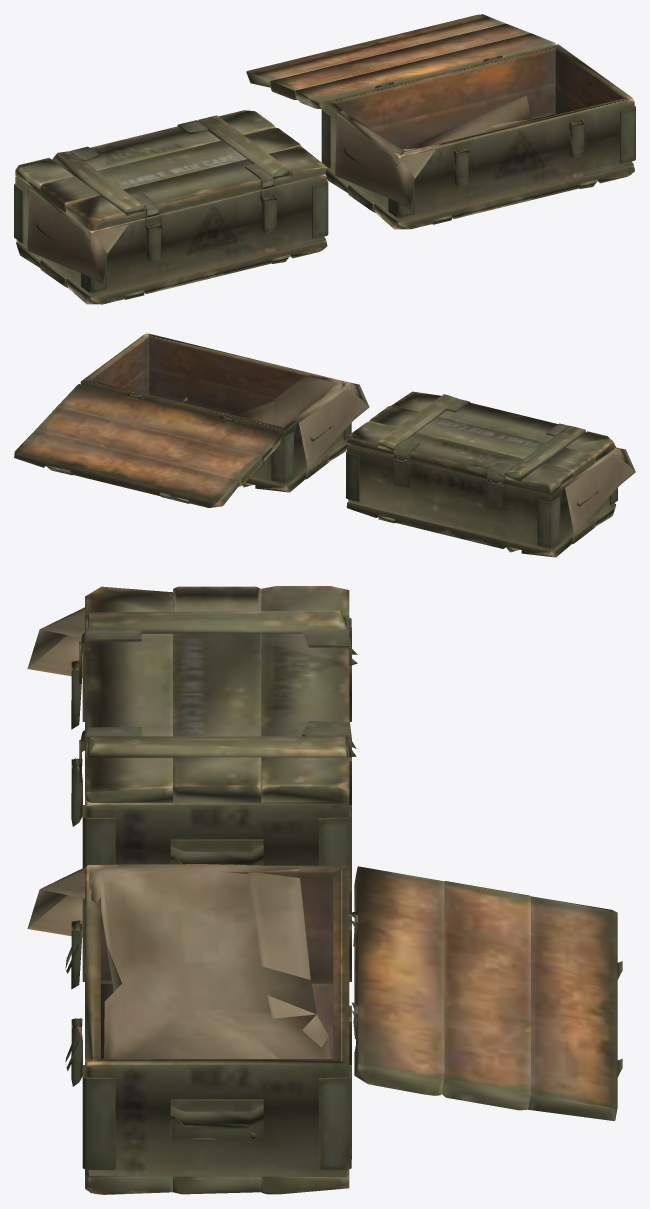
Rendered from old_military_crate.glb.
3 views of the same model, one above another, from view 1: azimuth 30°, elevation 25°; view 2: azimuth 150°, elevation 25°; view 3: azimuth 270°, elevation 25° (orthographic). The views are drawn at different scales.
Parts seen in each view (by area): view 1: old_military_crate_b, old_military_crate_lid_a, old_military_crate_a, old_military_crate_lid_b, old_military_crate_cloth_b, old_military_crate_cloth_a, old_military_crate_latch_a, old_military_crate_latch_b; view 2: old_military_crate_lid_b, old_military_crate_lid_a, old_military_crate_a, old_military_crate_b, old_military_crate_cloth_b, old_military_crate_cloth_a; view 3: old_military_crate_lid_a, old_military_crate_lid_b, old_military_crate_b, old_military_crate_cloth_b, old_military_crate_a, old_military_crate_cloth_a, old_military_crate_latch_a, old_military_crate_latch_b.
Part boxes in pixels (bbox=[...]): old_military_crate_b: bbox=[321, 44, 635, 229]; old_military_crate_lid_a: bbox=[15, 110, 327, 230]; old_military_crate_a: bbox=[14, 173, 328, 304]; old_military_crate_lid_b: bbox=[246, 14, 555, 109]; old_military_crate_cloth_b: bbox=[335, 95, 533, 209]; old_military_crate_cloth_a: bbox=[27, 188, 128, 284]; old_military_crate_latch_a: bbox=[146, 194, 276, 261]; old_military_crate_latch_b: bbox=[453, 119, 584, 185]; old_military_crate_lid_b: bbox=[14, 384, 282, 507]; old_military_crate_lid_a: bbox=[347, 391, 616, 494]; old_military_crate_a: bbox=[346, 445, 617, 557]; old_military_crate_b: bbox=[80, 333, 351, 492]; old_military_crate_cloth_b: bbox=[174, 374, 369, 469]; old_military_crate_cloth_a: bbox=[564, 447, 635, 534]; old_military_crate_lid_a: bbox=[79, 586, 357, 802]; old_military_crate_lid_b: bbox=[350, 866, 622, 1120]; old_military_crate_b: bbox=[82, 865, 351, 1194]; old_military_crate_cloth_b: bbox=[27, 864, 330, 1058]; old_military_crate_a: bbox=[82, 618, 351, 887]; old_military_crate_cloth_a: bbox=[27, 607, 84, 677]; old_military_crate_latch_a: bbox=[71, 660, 82, 826]; old_military_crate_latch_b: bbox=[71, 920, 82, 1086].
Bounding box in the file's own units: 1.81 × 0.2977 × 0.9677.
Materials: 1 (1 with a texture image).
